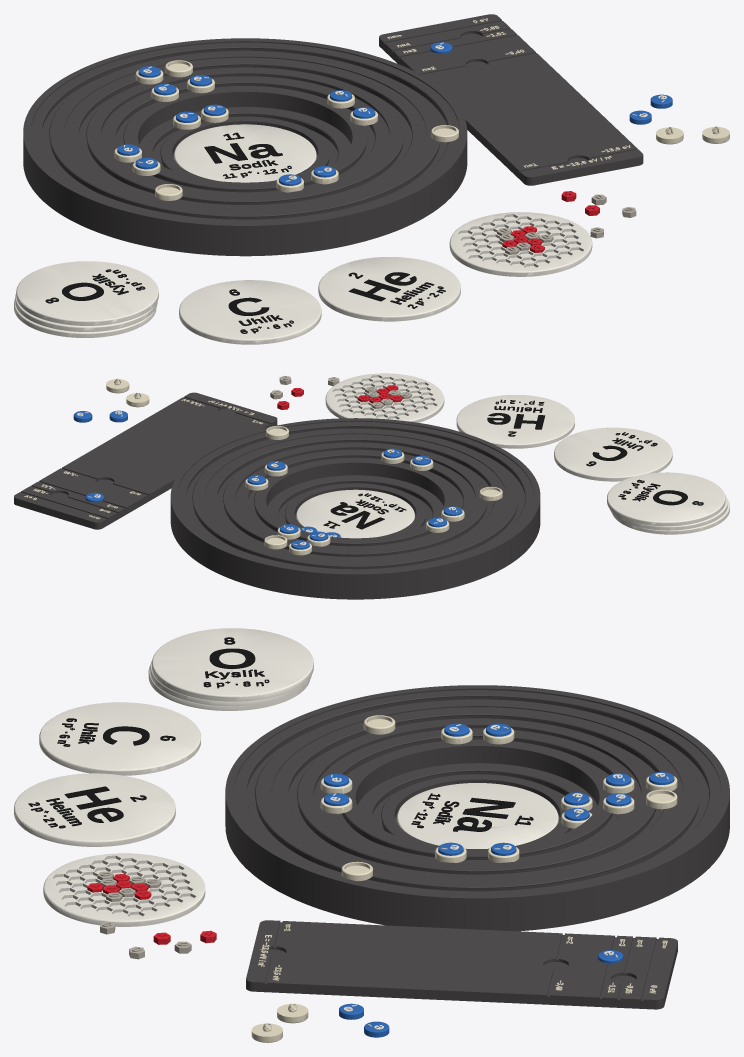
The model's file is atom_sodik.glb.
3 views of the same model, one above another, from view 1: azimuth 30°, elevation 25°; view 2: azimuth 150°, elevation 25°; view 3: azimuth 270°, elevation 25° (orthographic). The views are drawn at different scales.
Parts seen in each view (by area): view 1: deska, mince, zebricek, misticky, mince_text, elektrony, neutrony, protony, zebricek_text, elektrony_text; view 2: deska, mince, zebricek, mince_text, misticky, elektrony, neutrony, protony, zebricek_text, elektrony_text; view 3: deska, mince, zebricek, misticky, mince_text, elektrony, neutrony, protony, elektrony_text, zebricek_text.
Part boxes in pixels (bbox=[...]): deska: bbox=[23, 38, 467, 256]; mince: bbox=[14, 124, 592, 344]; zebricek: bbox=[379, 14, 643, 185]; misticky: bbox=[114, 60, 729, 200]; mince_text: bbox=[45, 132, 445, 333]; elektrony: bbox=[117, 42, 672, 185]; neutrony: bbox=[497, 194, 636, 254]; protony: bbox=[502, 191, 599, 252]; zebricek_text: bbox=[387, 18, 630, 169]; elektrony_text: bbox=[123, 42, 666, 181]; deska: bbox=[170, 418, 540, 599]; mince: bbox=[296, 373, 729, 538]; zebricek: bbox=[14, 392, 277, 529]; mince_text: bbox=[323, 399, 703, 529]; misticky: bbox=[106, 378, 502, 555]; elektrony: bbox=[73, 410, 462, 549]; neutrony: bbox=[270, 375, 411, 408]; protony: bbox=[277, 385, 402, 409]; zebricek_text: bbox=[24, 399, 262, 519]; elektrony_text: bbox=[77, 411, 457, 545]; deska: bbox=[225, 685, 729, 931]; mince: bbox=[14, 628, 558, 926]; zebricek: bbox=[246, 920, 677, 1009]; misticky: bbox=[251, 715, 677, 1042]; mince_text: bbox=[28, 637, 533, 831]; elektrony: bbox=[324, 723, 674, 1037]; neutrony: bbox=[97, 871, 191, 959]; protony: bbox=[87, 874, 216, 944]; elektrony_text: bbox=[330, 724, 668, 1029]; zebricek_text: bbox=[258, 924, 667, 993].
Bounding box in the file's own units: 0.45 × 0.0223 × 0.3405.
